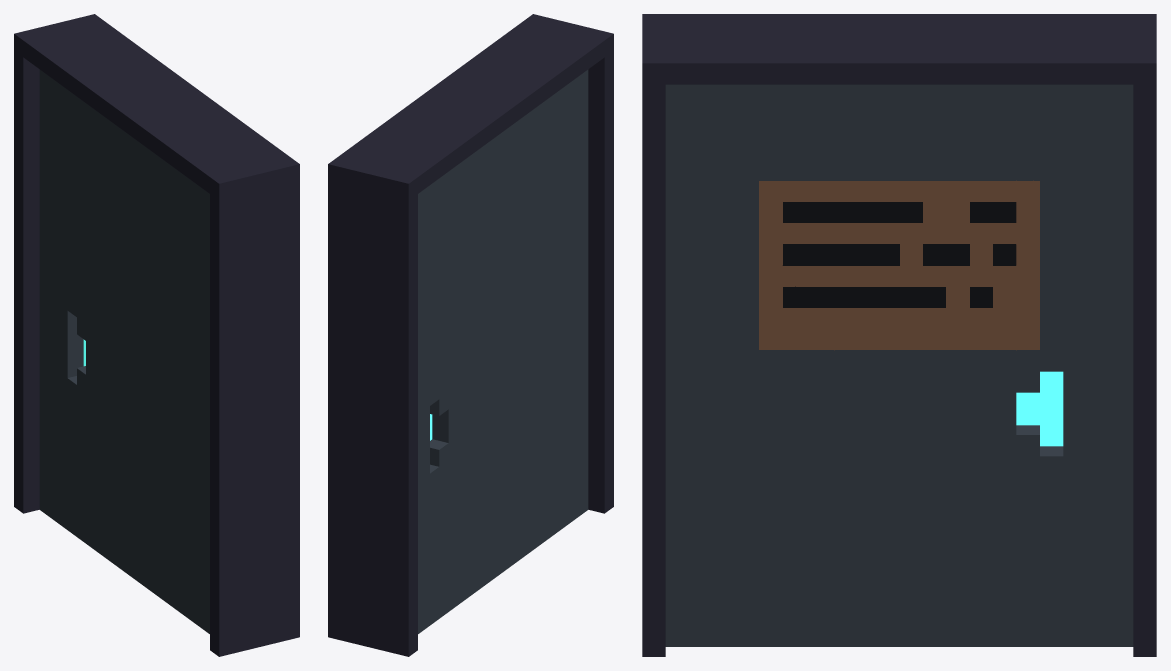
File: DZWI_KANAL.dae
3 renders of one model, left to right at view 1: azimuth 30°, elevation 25°; view 2: azimuth 150°, elevation 25°; view 3: azimuth 270°, elevation 25°, orthographic. The views are drawn at different scales.
Parts seen in each view (by area): view 1: Content; view 2: Content; view 3: Content.
Part boxes in pixels (left/top/right/bottom): Content: left=14, top=14, right=299, bottom=656; Content: left=328, top=14, right=613, bottom=656; Content: left=642, top=14, right=1156, bottom=656.
Bounding box in the file's own units: 5 × 28 × 22.
Materials: 1 (1 with a texture image).
